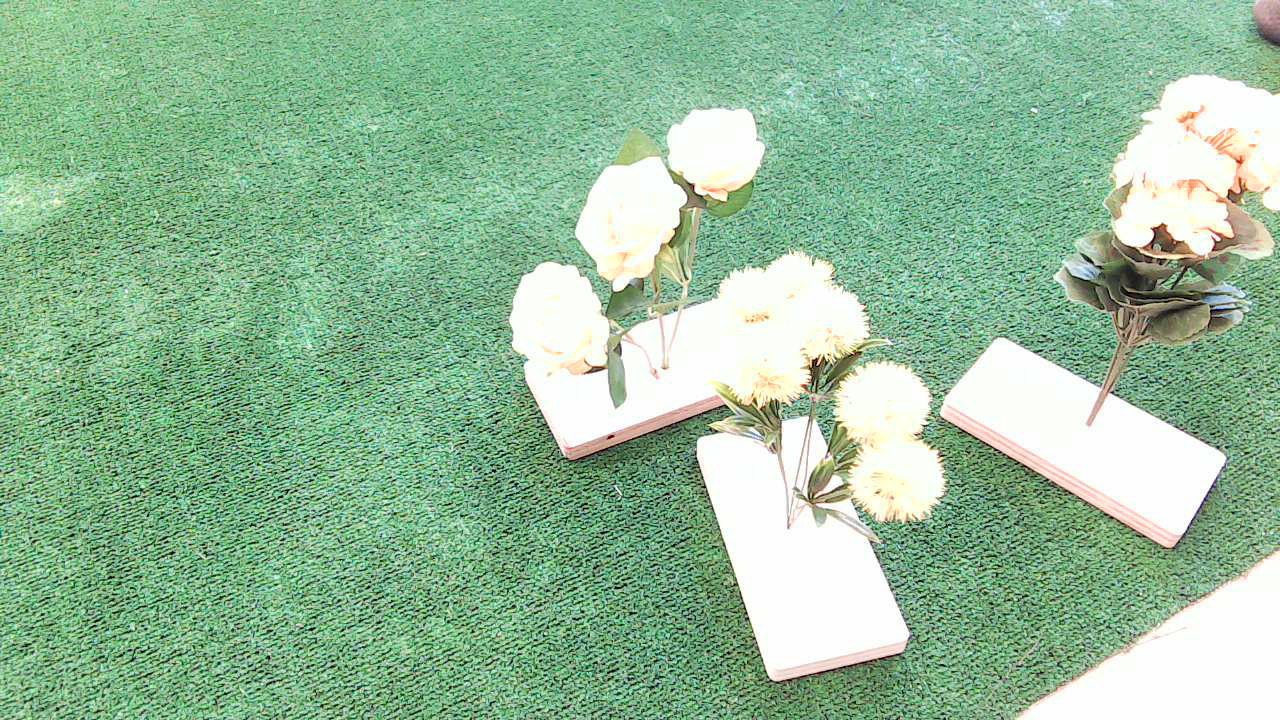dandelion: (709, 260, 962, 556)
geranium: (1038, 69, 1280, 416)
rose: (503, 105, 773, 266)
